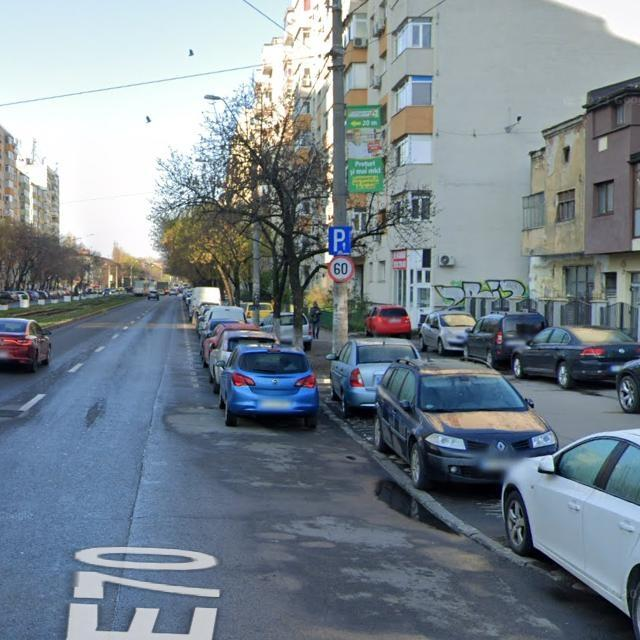forb_speed_over_60: (329, 256, 354, 283)
